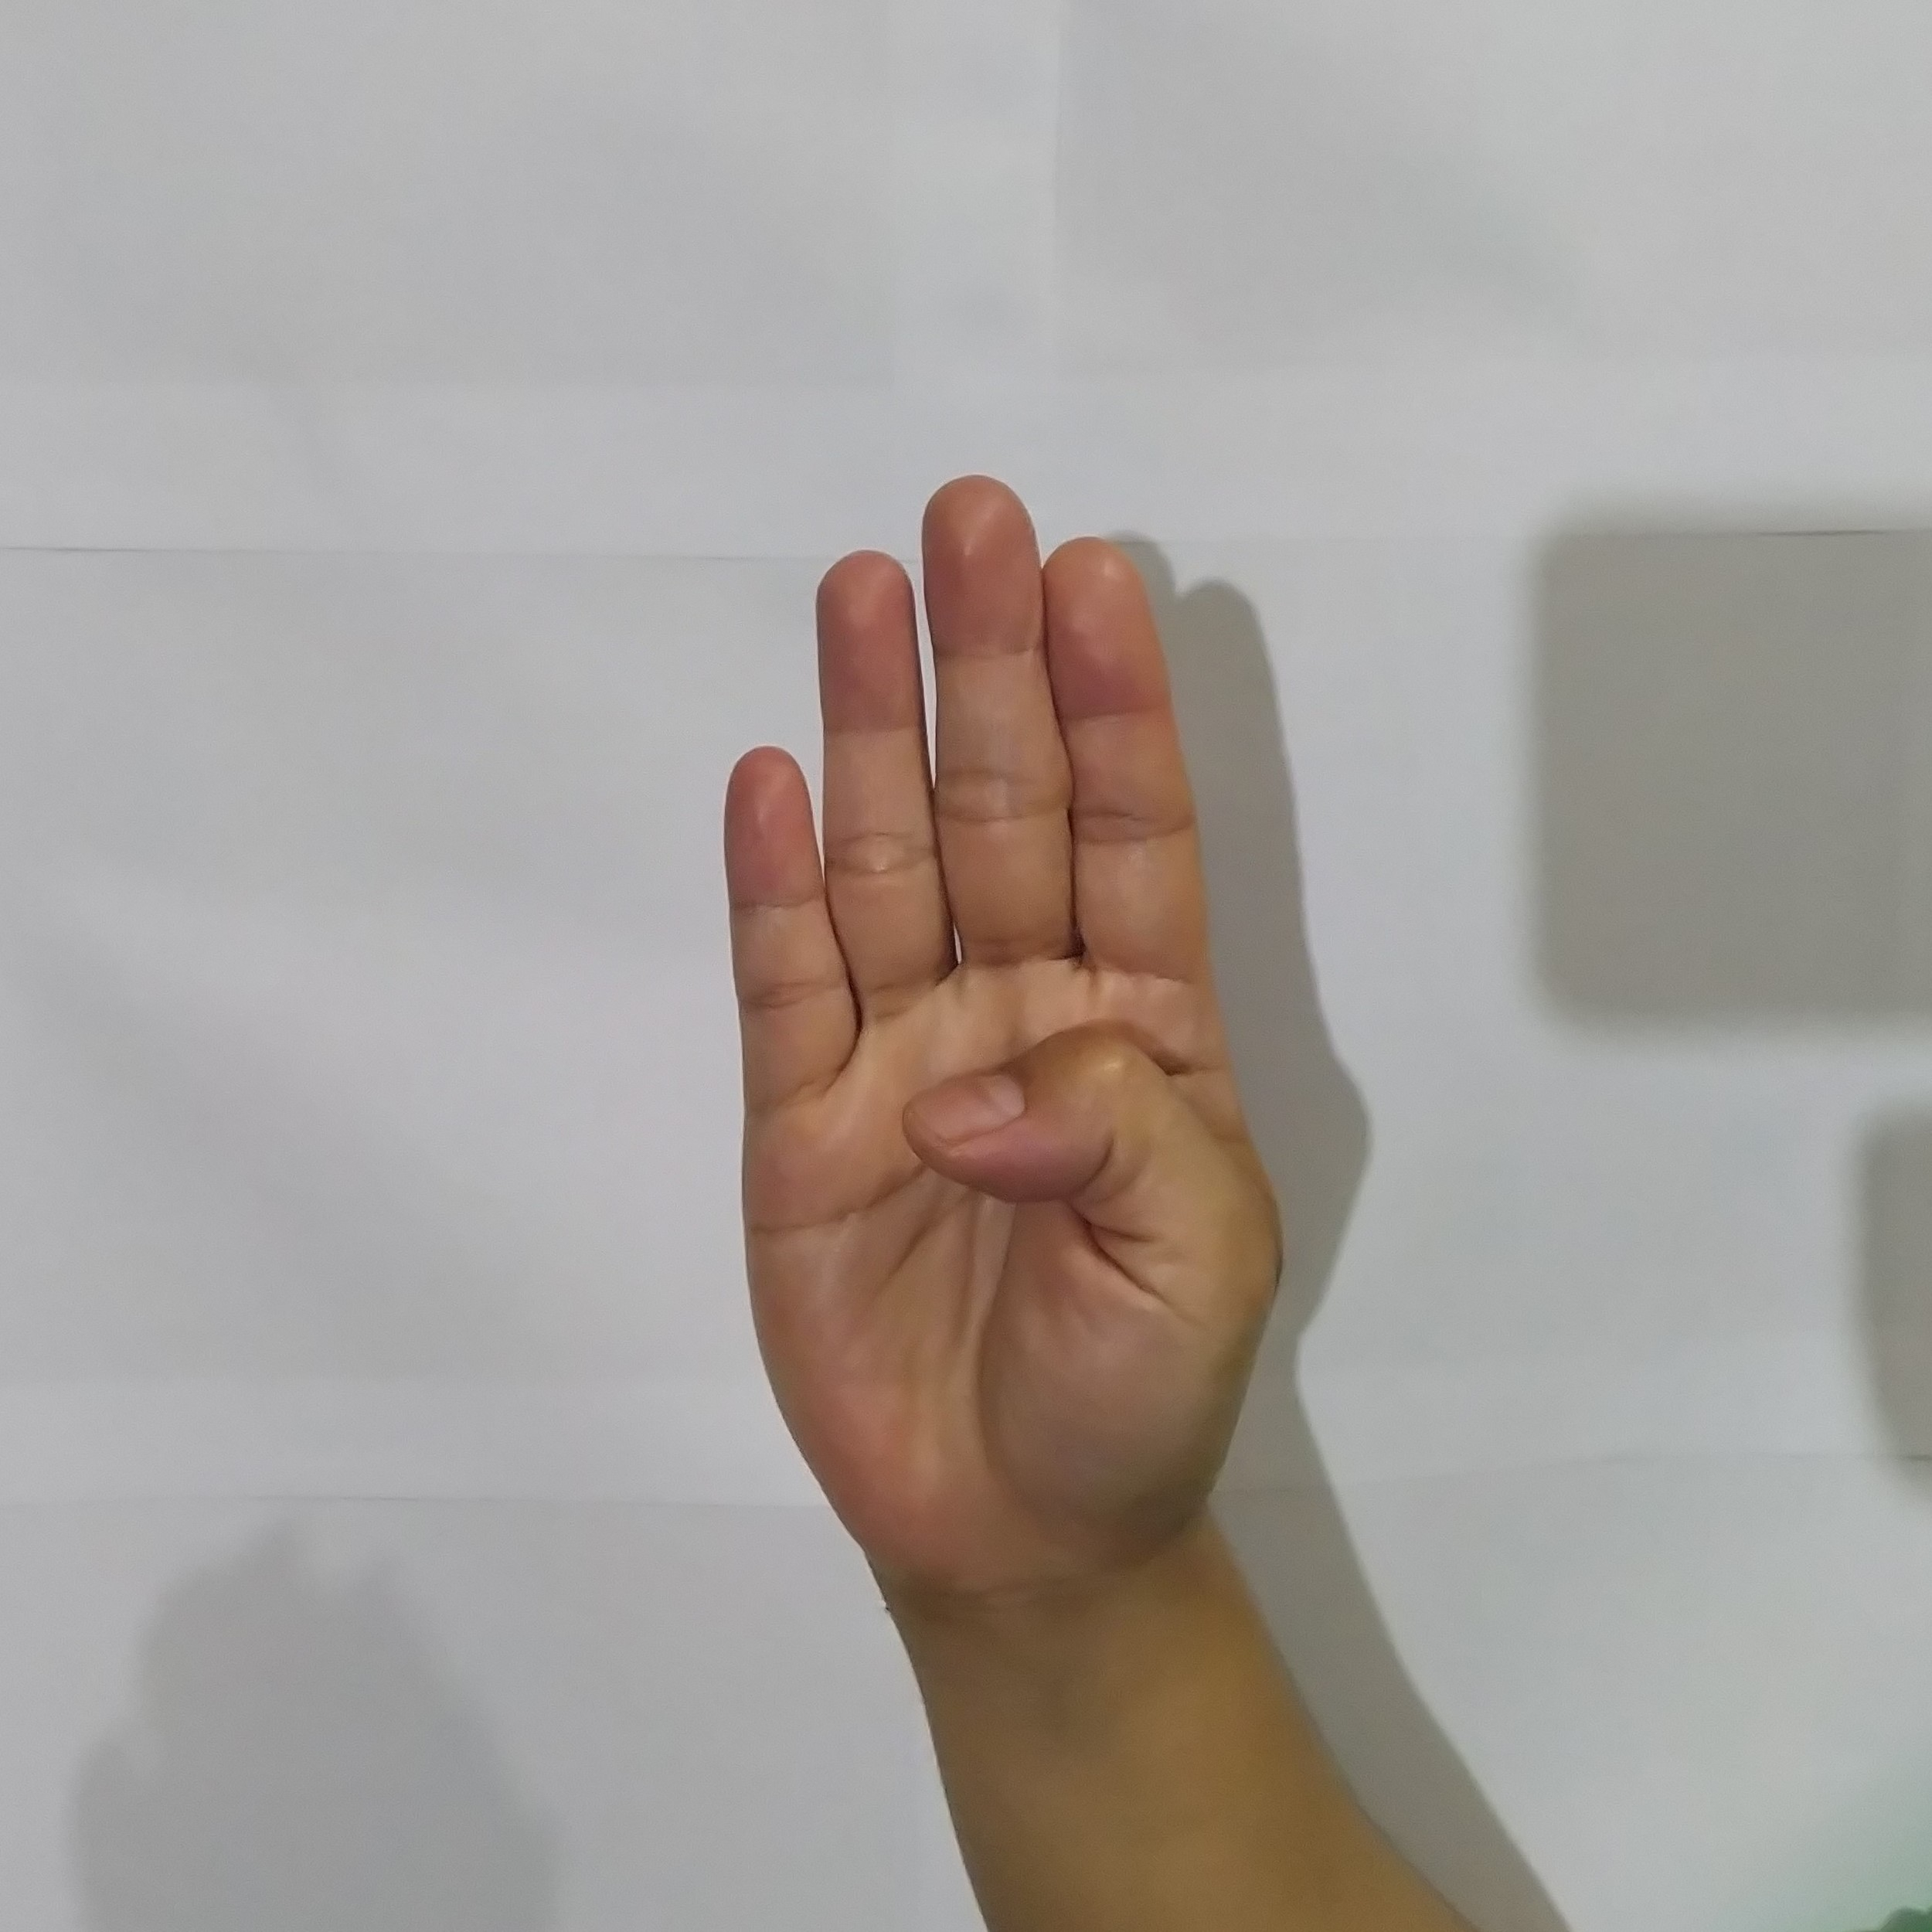B: (699, 458, 1300, 1591)
